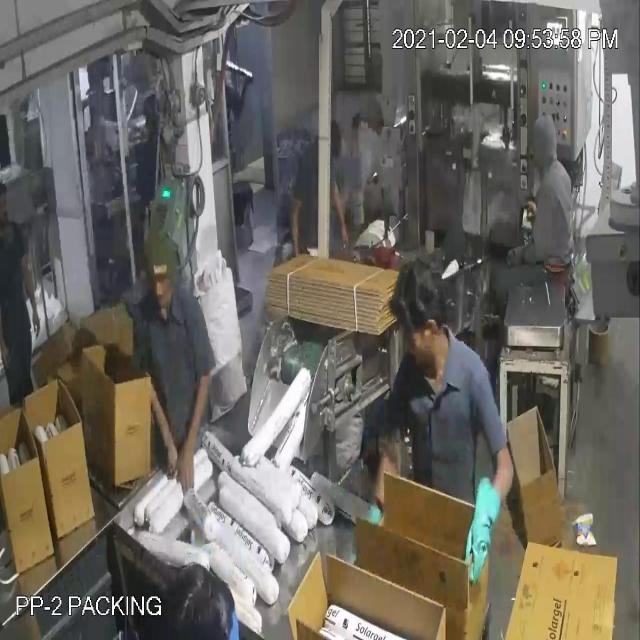No_Gloves: (22, 91, 482, 537)
